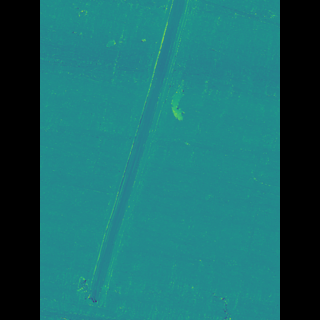Loch: (94, 0, 189, 306)
